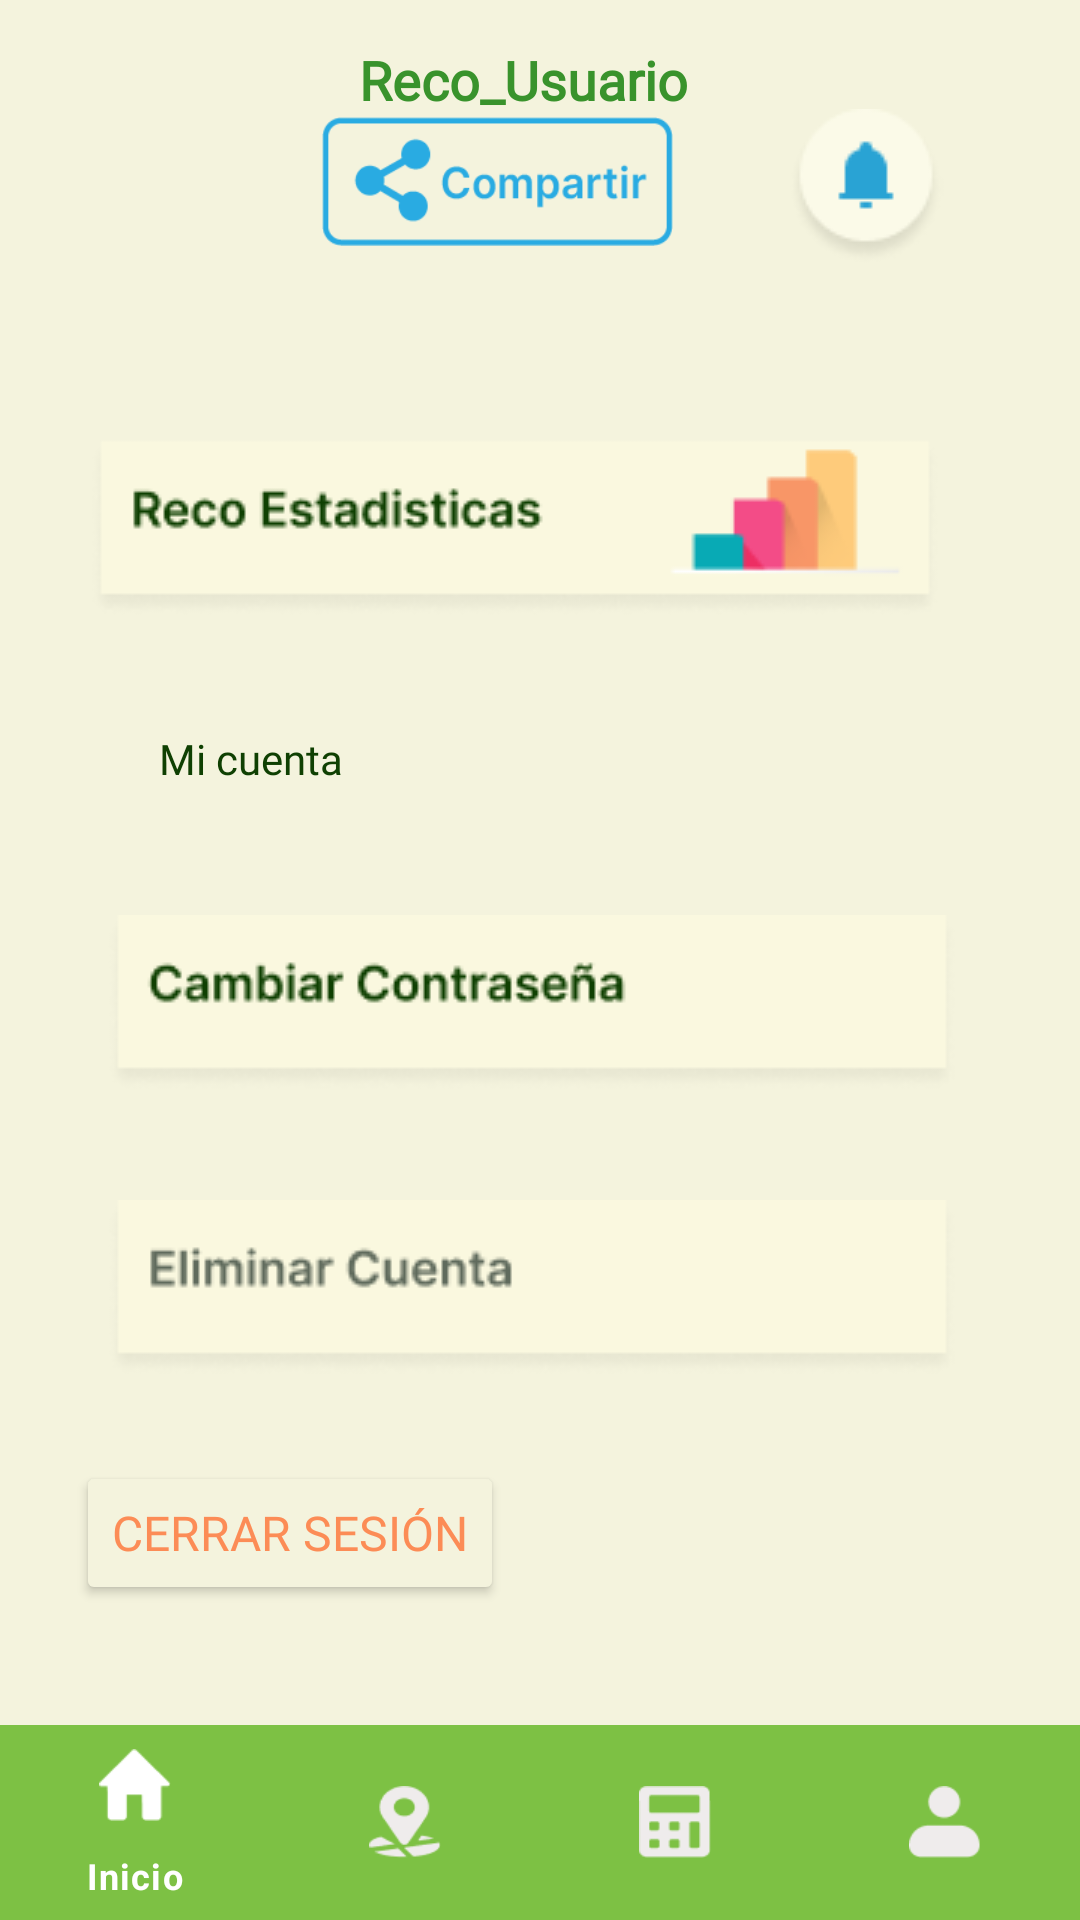

Icon bounding boxes for this 1080 × 1920 phone screenshot, format (x1, y1, x2, y2):
group notif: (838, 141, 894, 209)
